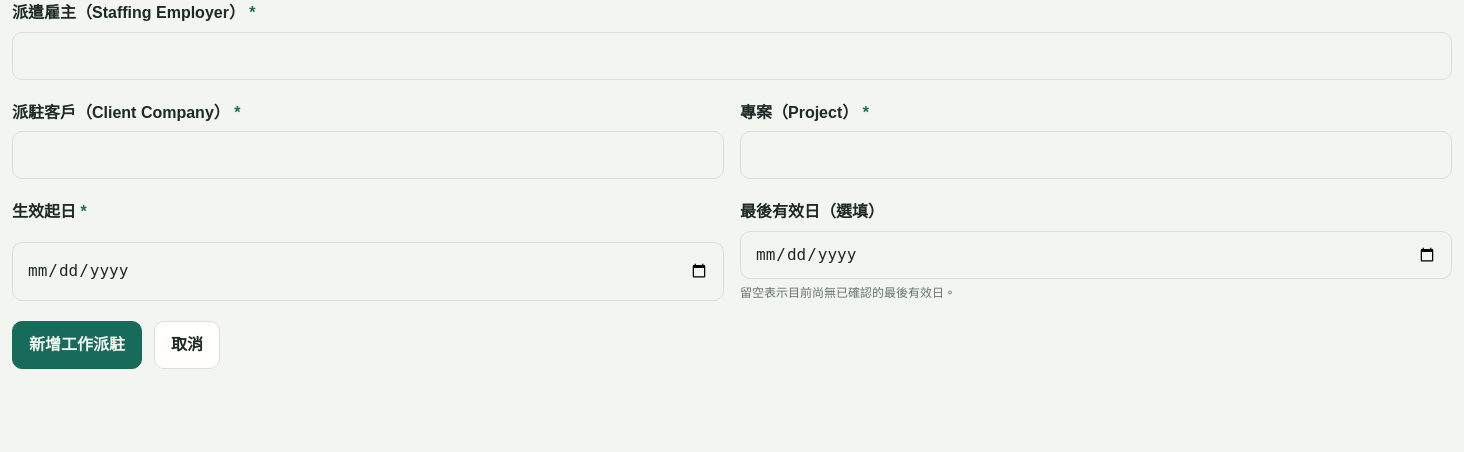
Scenario: WorkAssignmentForm.vue › shows error when assignment period overlaps with another assignment
This screenshot has width=1464, height=452.
Step 1. Type "新雇主" into the field named "staffing_employer" → (732, 56), box [12,32,1452,80]
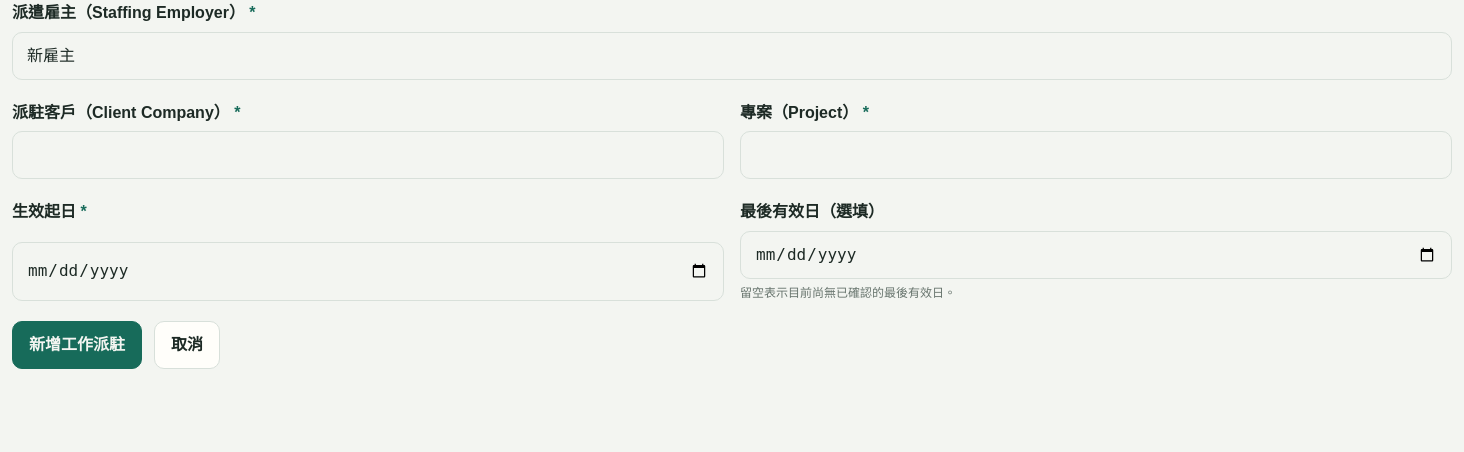
Step 2. Type "新客戶" into the field named "client_company" → (368, 155), box [12,131,724,179]
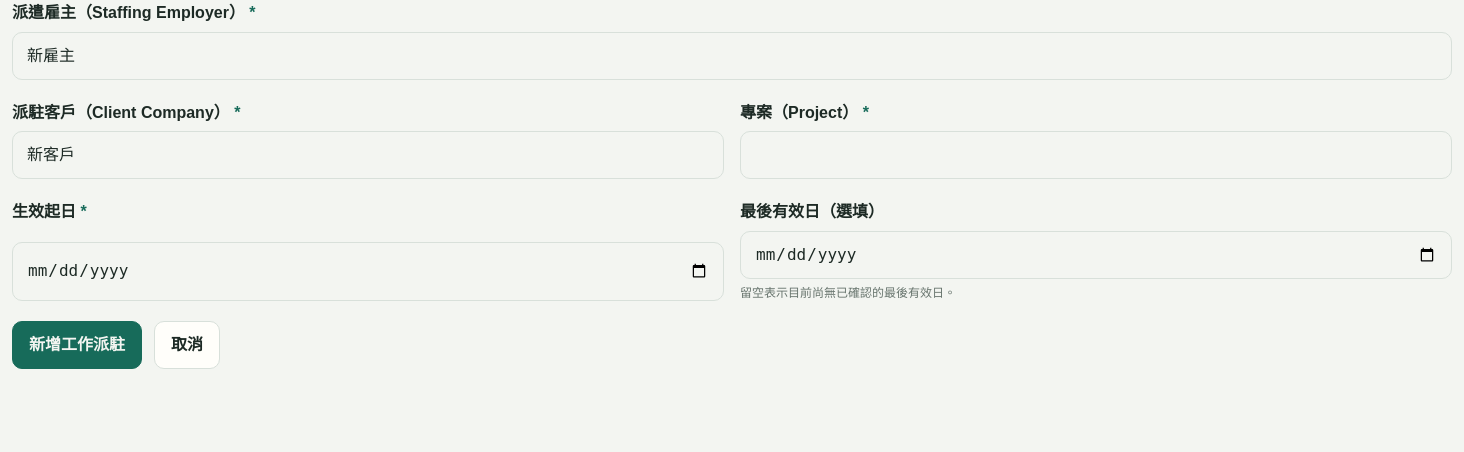
Step 3. Type "新專案" into the field named "project" → (1096, 155), box [740,131,1452,179]
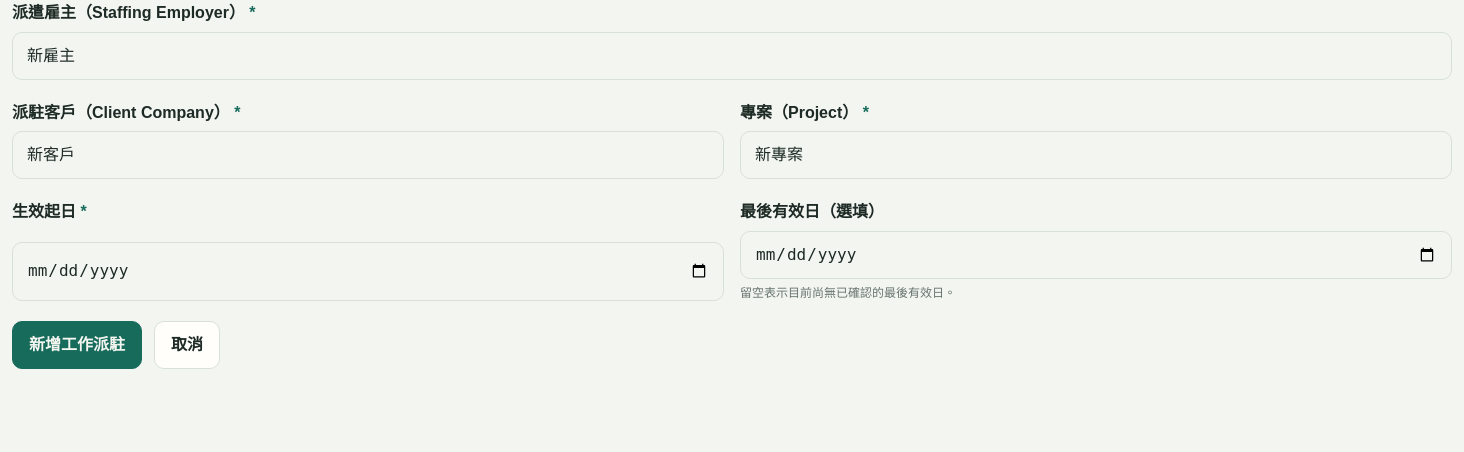
Step 4. Type "2026-08-01" into the date field named "effective_from" → (368, 271), box [12,242,724,301]
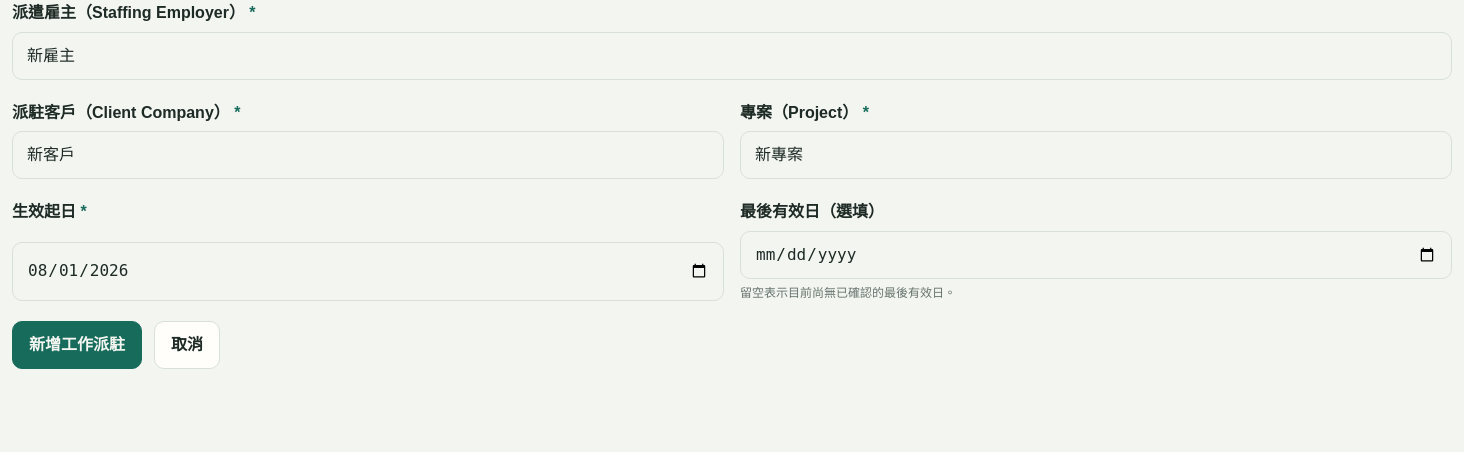
Step 5. Type "2027-01-31" into the date field named "effective_to" → (1096, 255), box [740,231,1452,279]
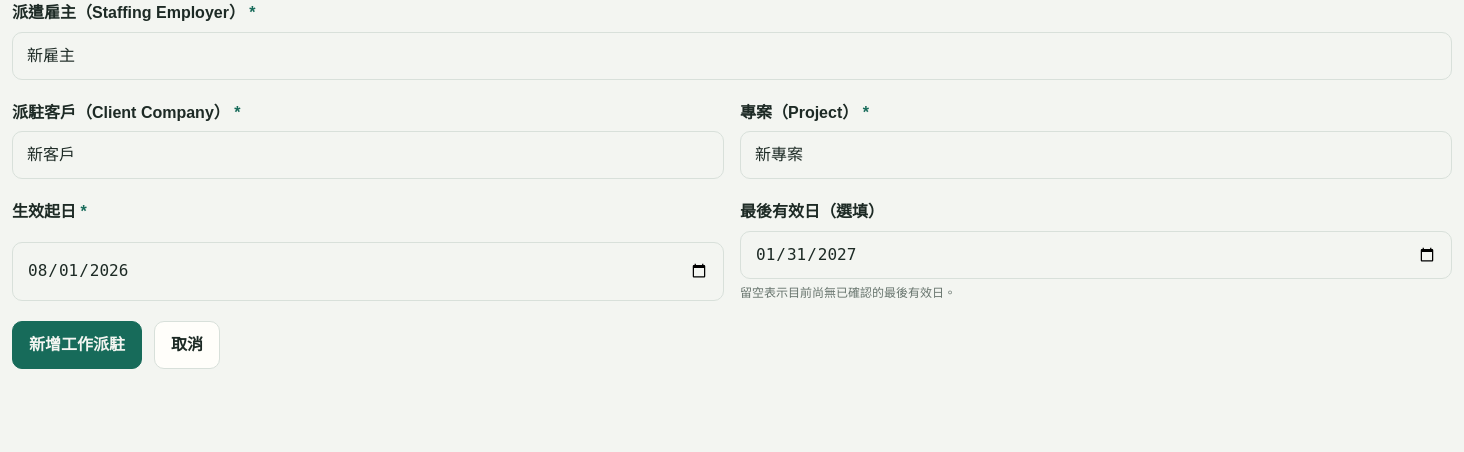
Step 6. Submit the form
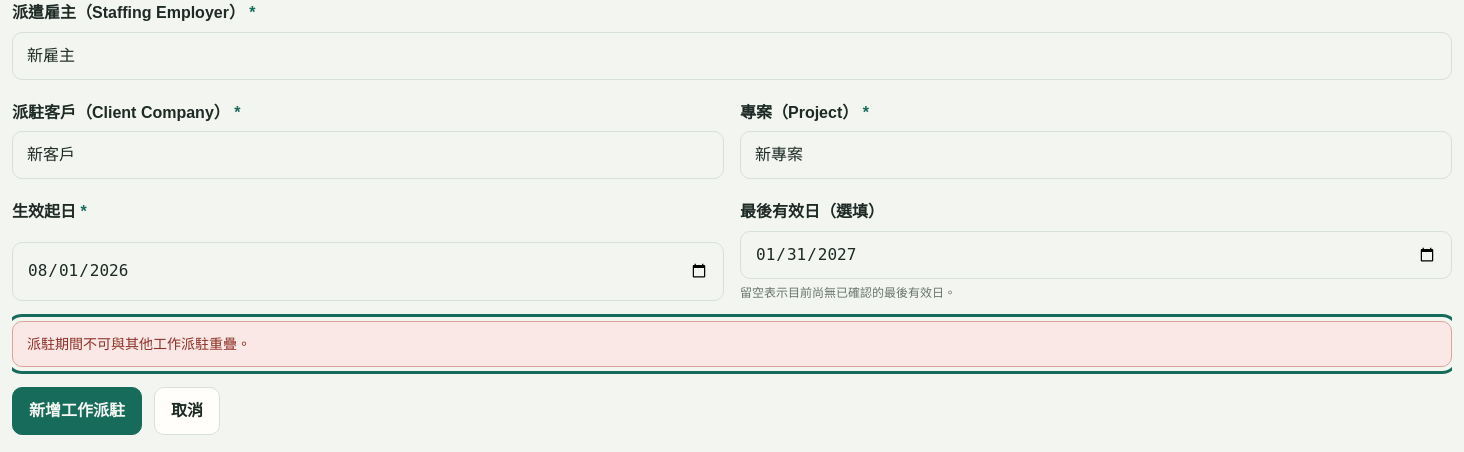
Check: the message "派駐期間不可與其他工作派駐重疊。" is shown, box [12,321,1452,367]
